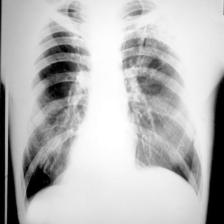tuberculosis: (19, 0, 205, 213)
